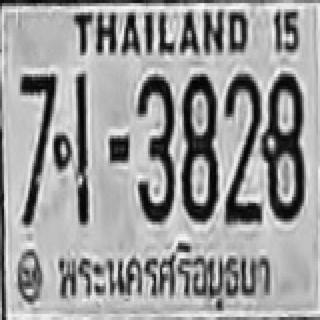N01: (75, 71, 87, 222)
N02: (223, 71, 261, 222), (224, 71, 260, 209)
N03: (136, 72, 172, 220)
N07: (18, 71, 56, 222)
N08: (262, 71, 302, 218), (180, 71, 216, 218)
P03: (52, 237, 271, 316)
